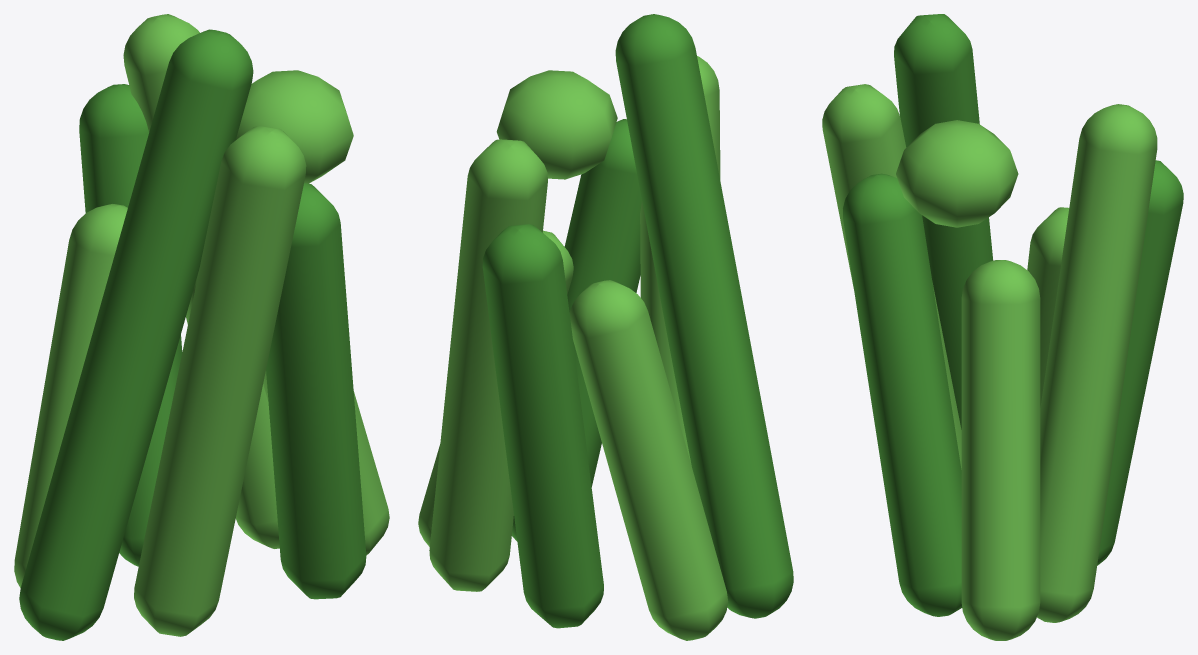
The model's file is grass_clump.glb.
The picture shows the model from 3 angles, left to right: view 1: azimuth 30°, elevation 25°; view 2: azimuth 150°, elevation 25°; view 3: azimuth 270°, elevation 25°; orthographic projection. The views are drawn at different scales.
Visible parts, largest first — view 1: GrassClump; view 2: GrassClump; view 3: GrassClump.
Part boxes in pixels (box(x1,y1,x2,y2)): GrassClump: box(14, 14, 389, 640); GrassClump: box(418, 14, 793, 640); GrassClump: box(822, 14, 1183, 640).
Size of the model in its own units: 0.1765 by 0.2752 by 0.1651.
